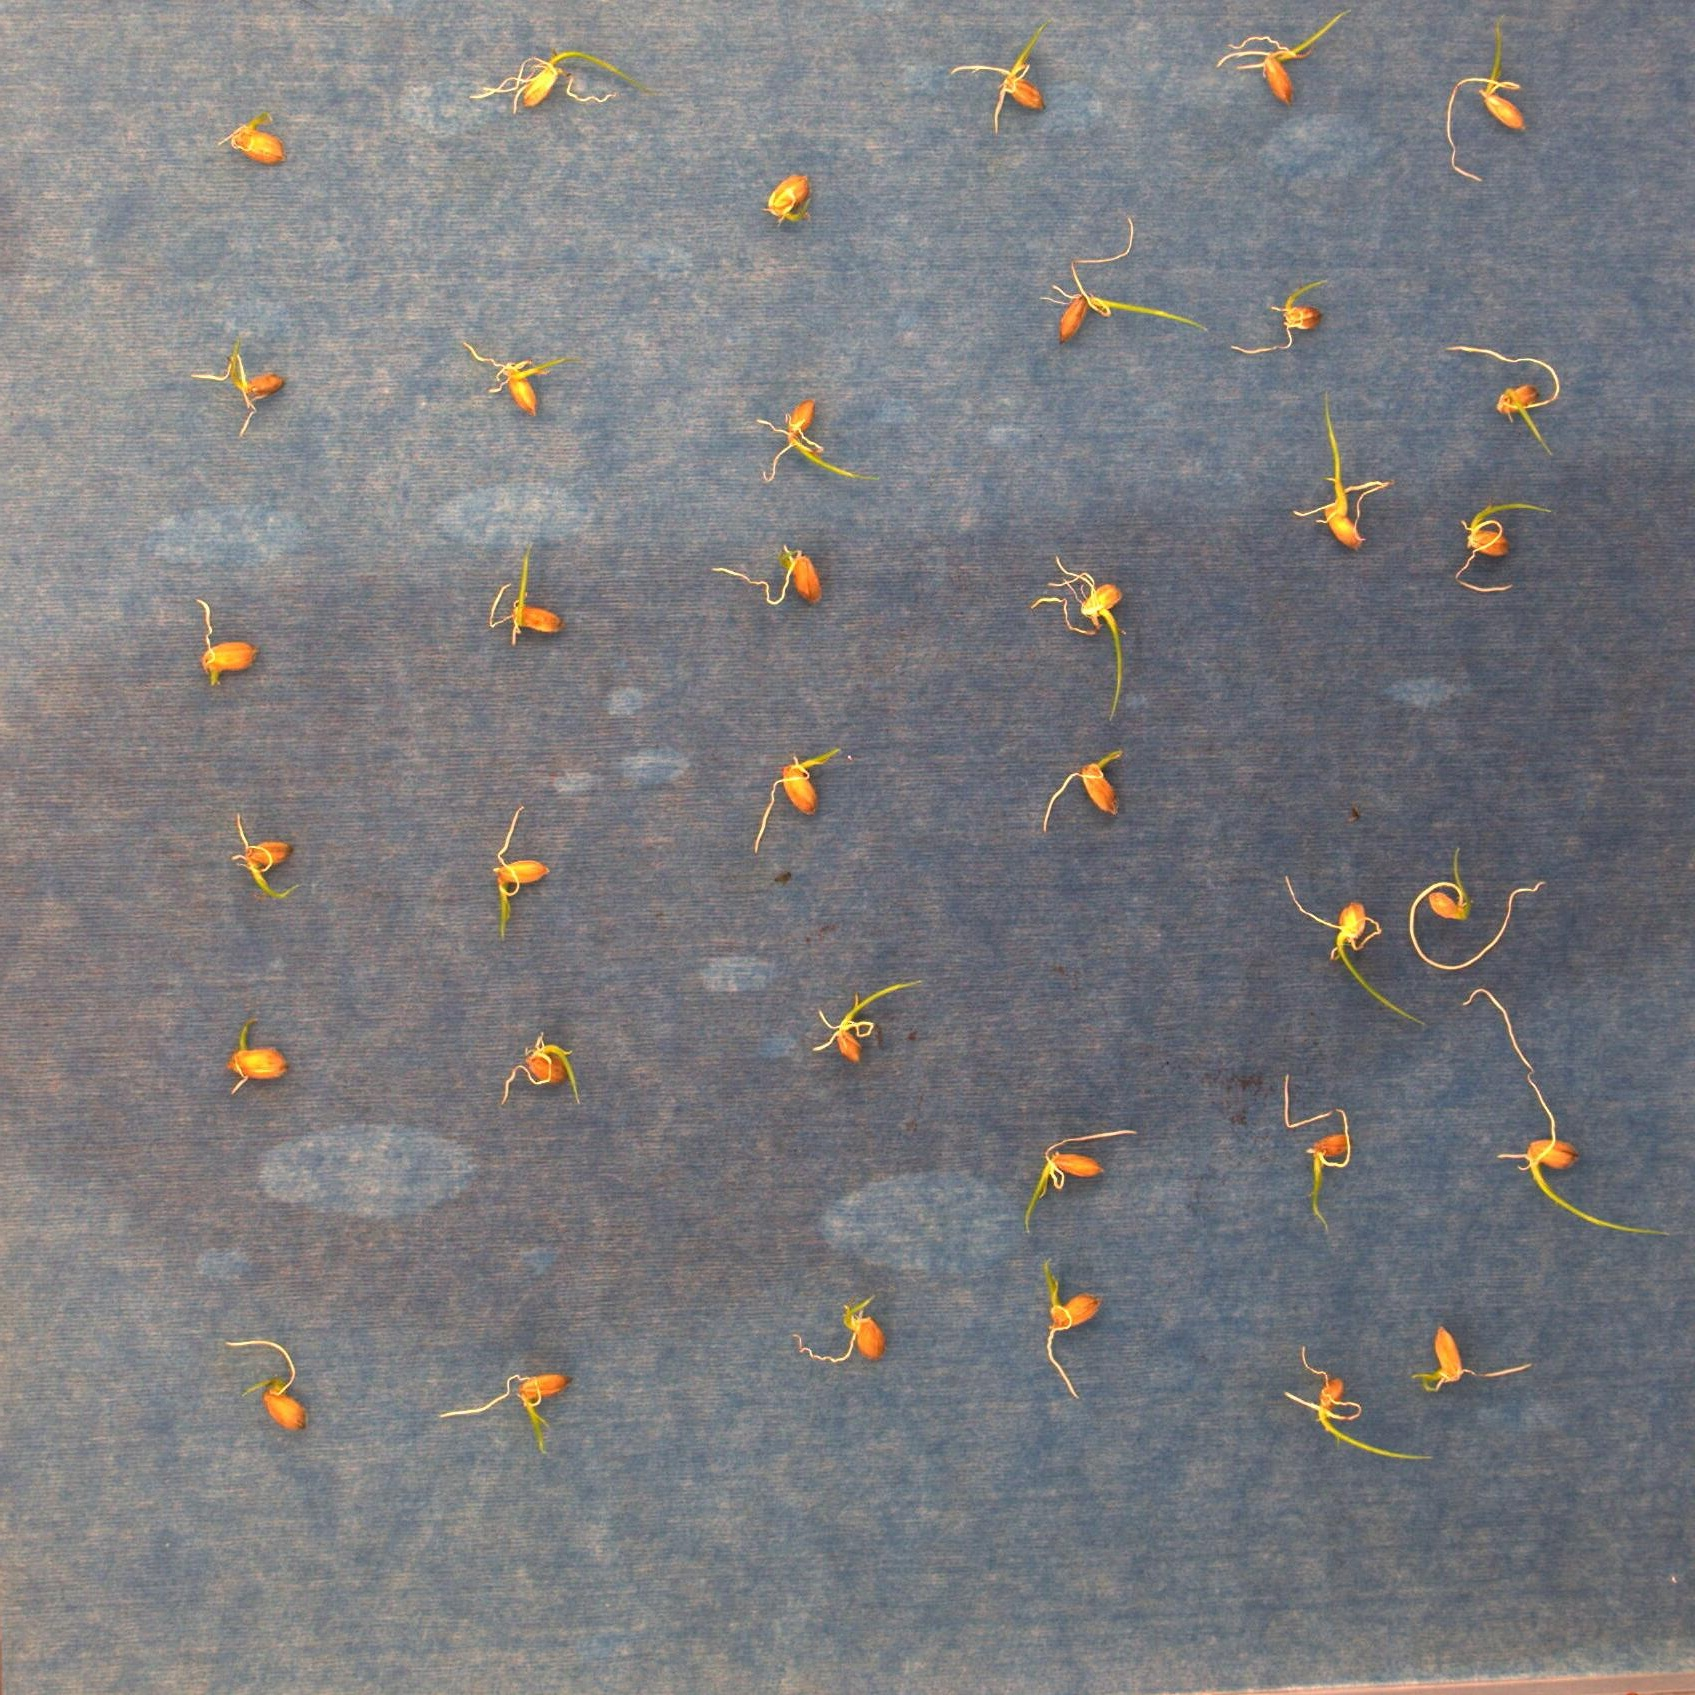not sprout: (714, 543, 830, 613), (191, 596, 258, 688)
sprout: (1461, 989, 1664, 1239), (1285, 880, 1423, 1034), (1049, 213, 1201, 343), (1287, 1346, 1431, 1468), (1408, 844, 1543, 973), (1029, 556, 1128, 725), (1298, 393, 1392, 549), (1444, 338, 1563, 455), (1217, 6, 1347, 106), (1281, 1074, 1350, 1251), (463, 50, 647, 116), (1447, 23, 1523, 182), (757, 394, 874, 490), (955, 26, 1052, 137), (1024, 1127, 1132, 1226), (194, 329, 289, 438), (435, 1375, 570, 1451), (1035, 1256, 1107, 1399), (456, 338, 581, 418), (1458, 501, 1562, 591), (756, 750, 841, 852), (813, 979, 924, 1059), (1416, 1321, 1530, 1392), (224, 1329, 307, 1423), (490, 539, 563, 646), (494, 804, 549, 942), (1038, 745, 1121, 829), (792, 1293, 886, 1364), (1236, 281, 1330, 351), (498, 1032, 585, 1105), (230, 813, 298, 899), (216, 109, 289, 168), (222, 1023, 287, 1087), (761, 171, 810, 231)
